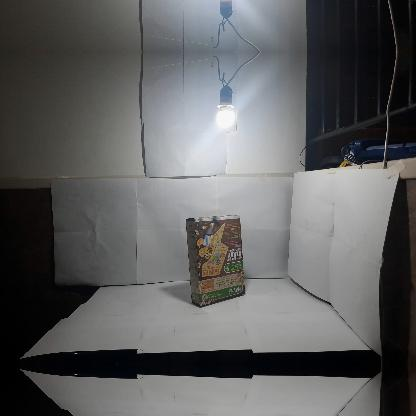Koko-Krunch: (186, 214, 245, 306)
